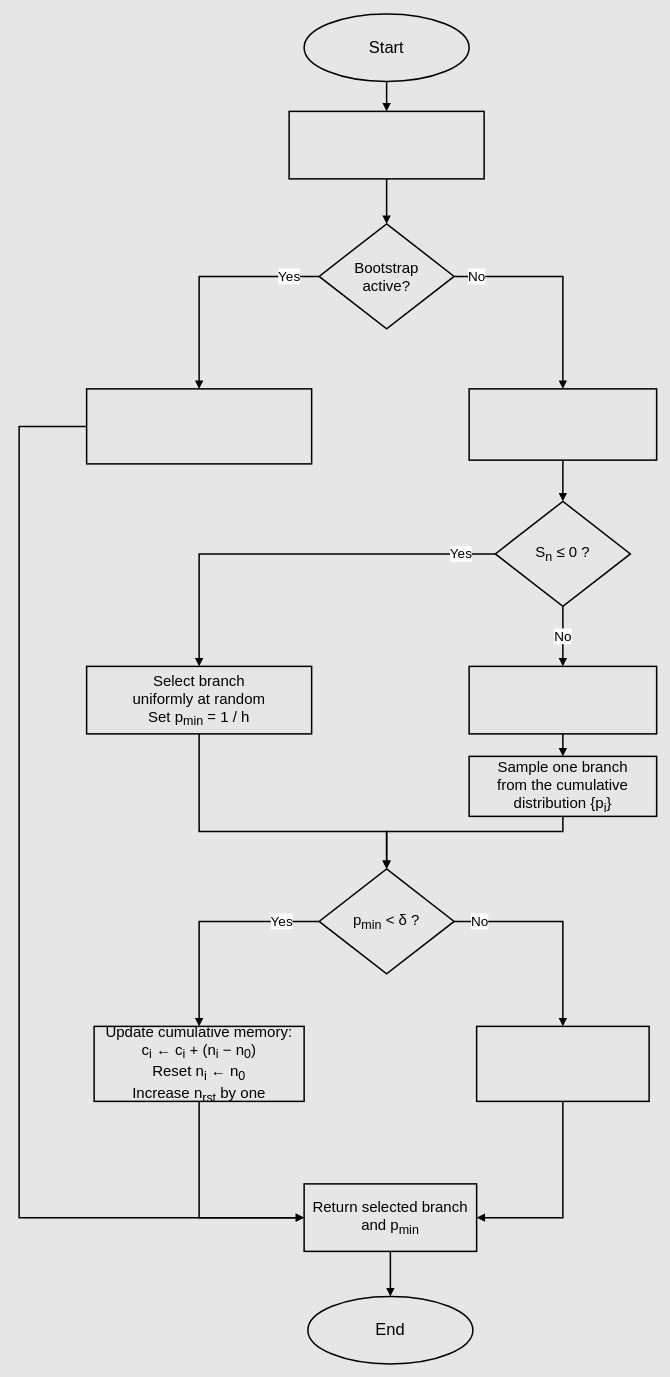
Image size: 670x1377. Some labels were removed from this diagram. Here are the shapes that lost their labels. From the top down, the centre of each, then its label:
[386,144]: Receive scheduling state (b, h, n i , c i , n 0 , δ)
[199,426]: Select ARQ branch Set p min = 1 / h Decrease b by one
[562,424]: Compute S n = Σ n i
[562,699]: Compute p i = n i / S n Set p min = min p i
[563,1063]: Keep current controller state
